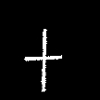single_crochet: (25, 29, 61, 90)
